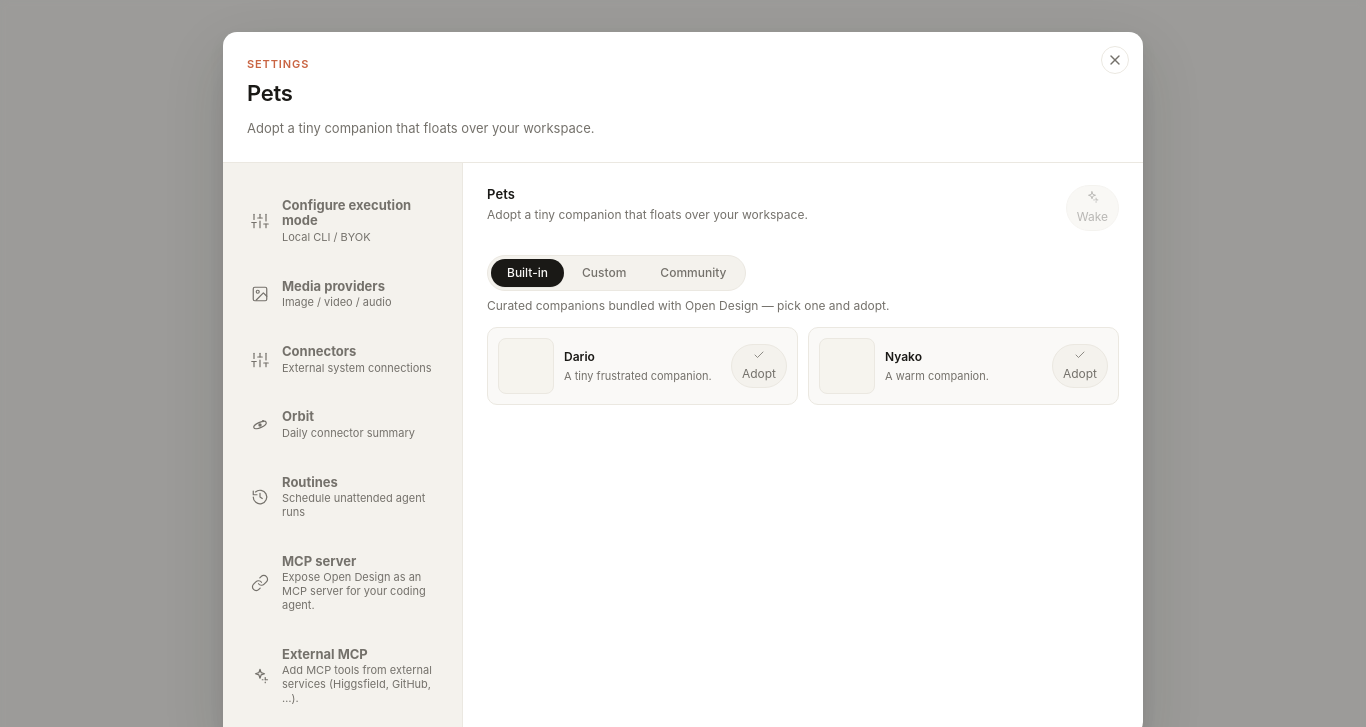
Test: SettingsDialog pets interactions › renders bundled pets by default and exposes community pets in a separate tab
Expected: the button "Wake" is disabled, [1066,185,1119,231]
Expected: the text "Dario" is shown, [564,349,595,364]
Click the tab "Community". click: [693, 273]
box: [644,259,742,287]
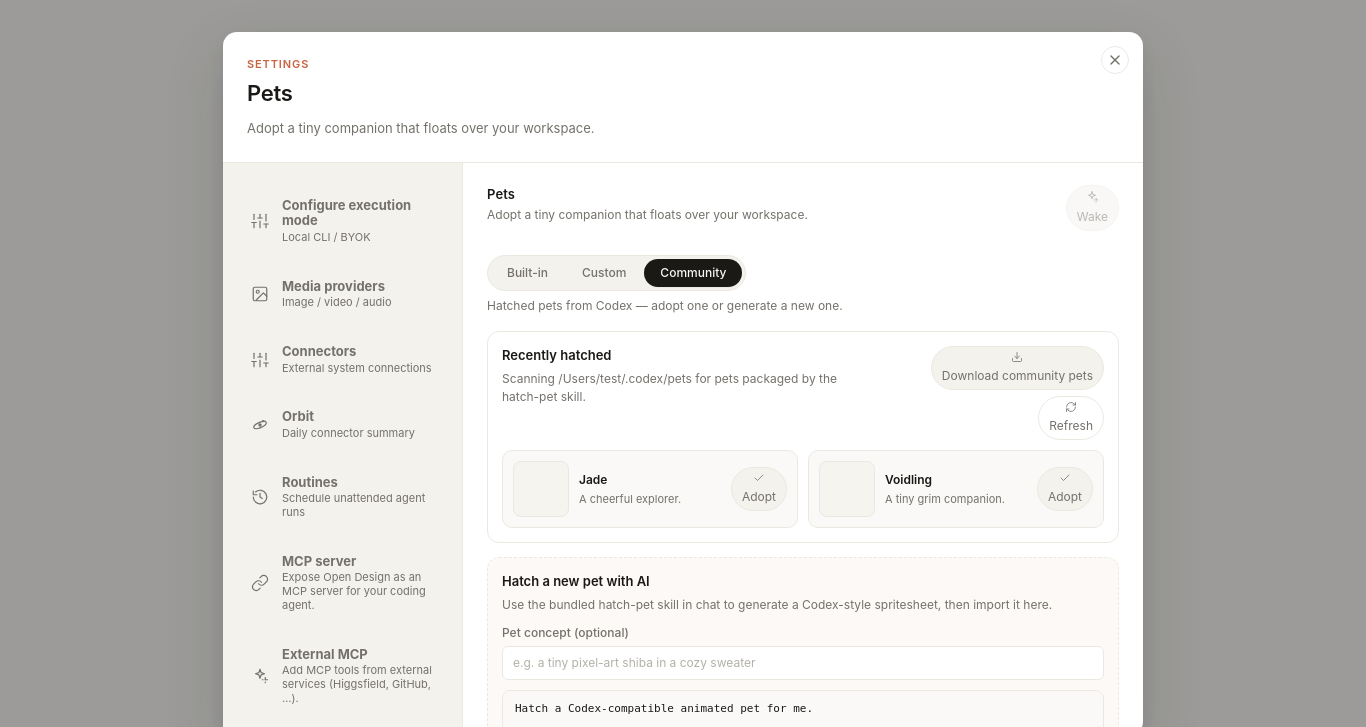
Expected: the heading "Recently hatched" is shown, [502,347,612,363]
Expected: the button "Download community pets" is shown, [931,346,1104,390]
Expected: the button "Refresh" is shown, [1038,396,1104,440]
